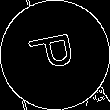P_E: (27, 32, 83, 78)
